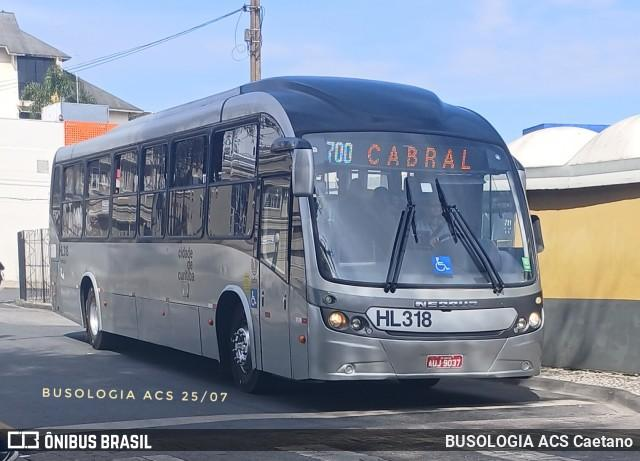CABRAL: (360, 139, 479, 172)
